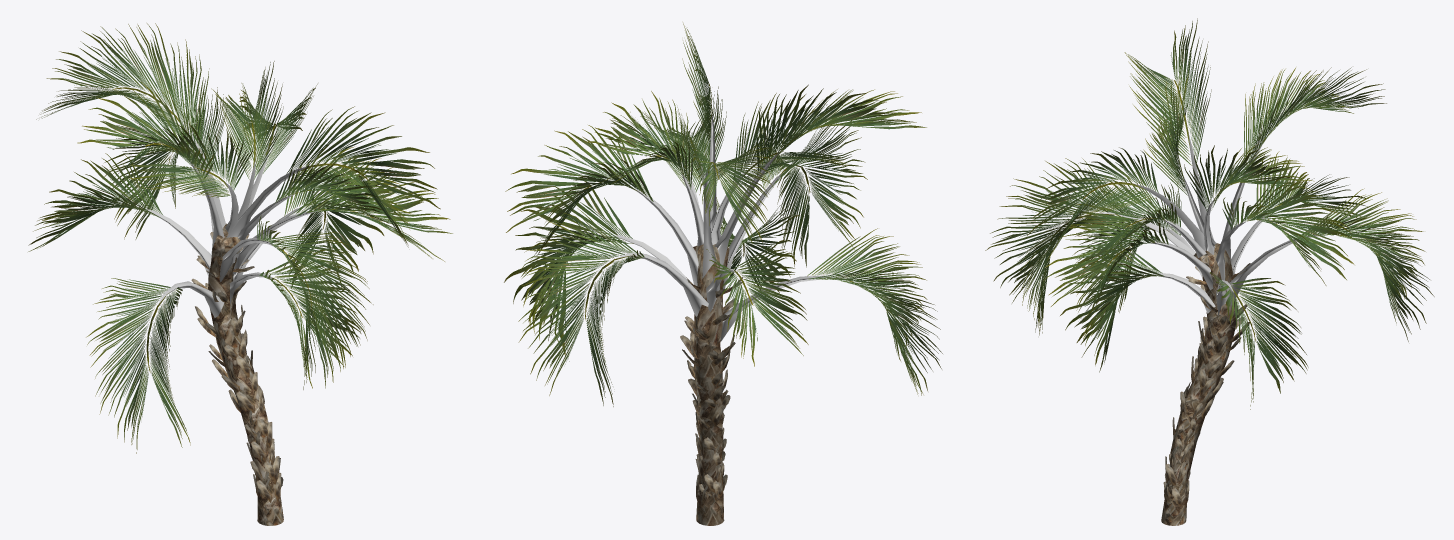
The picture shows the model from 3 angles, left to right: view 1: azimuth 30°, elevation 25°; view 2: azimuth 150°, elevation 25°; view 3: azimuth 270°, elevation 25°; orthographic projection. The views are drawn at different scales.
Visible parts, largest first — view 1: Tree_1, Tree_3, Tree_0, Tree_2; view 2: Tree_1, Tree_3, Tree_0, Tree_2; view 3: Tree_1, Tree_3, Tree_0, Tree_2.
Boxes of the visible parts, x1,y1,x2,y2 form: Tree_1: (28,23,452,453); Tree_3: (140,117,320,317); Tree_0: (208,223,283,525); Tree_2: (191,232,283,502); Tree_1: (504,23,942,406); Tree_3: (605,114,839,341); Tree_0: (693,244,729,525); Tree_2: (680,277,743,505); Tree_1: (985,18,1434,409); Tree_3: (1096,134,1326,319); Tree_0: (1161,243,1237,525); Tree_2: (1163,263,1250,506).
Size of the model in its own units: 1.69 by 2.01 by 1.92.
